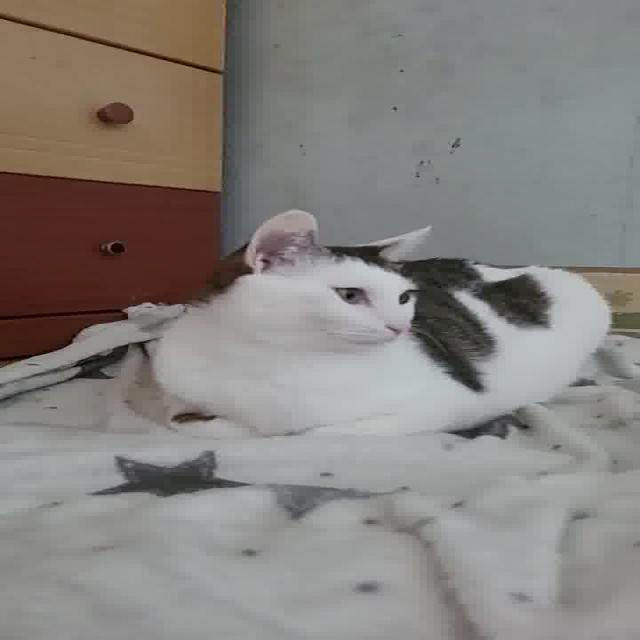cat: (123, 212, 625, 444)
